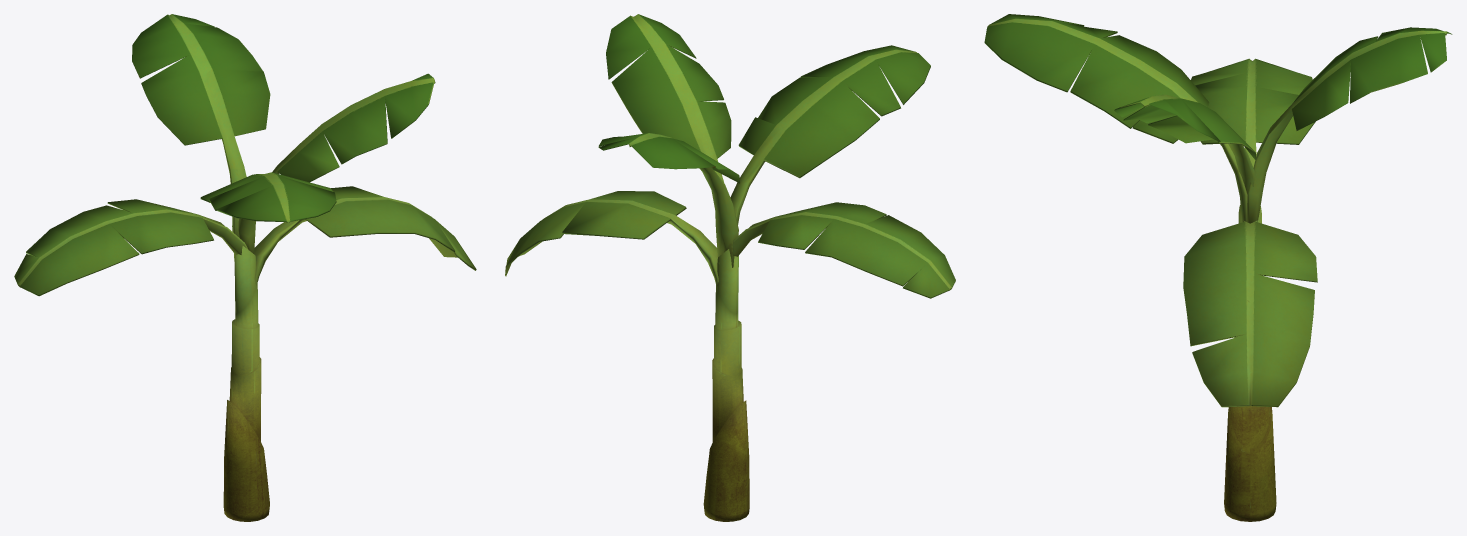
File: banana_simple.glb
The picture shows the model from 3 angles, left to right: view 1: azimuth 30°, elevation 25°; view 2: azimuth 150°, elevation 25°; view 3: azimuth 270°, elevation 25°; orthographic projection. The views are drawn at different scales.
Parts seen in each view (by area): view 1: banana tree; view 2: banana tree; view 3: banana tree.
Boxes of the visible parts, x1,y1,x2,y2 form: banana tree: [14, 14, 476, 521]; banana tree: [505, 14, 955, 521]; banana tree: [984, 14, 1452, 521].
Size of the model in its own units: 3.35 by 3.1 by 2.71.
1 material, 1 textured.
